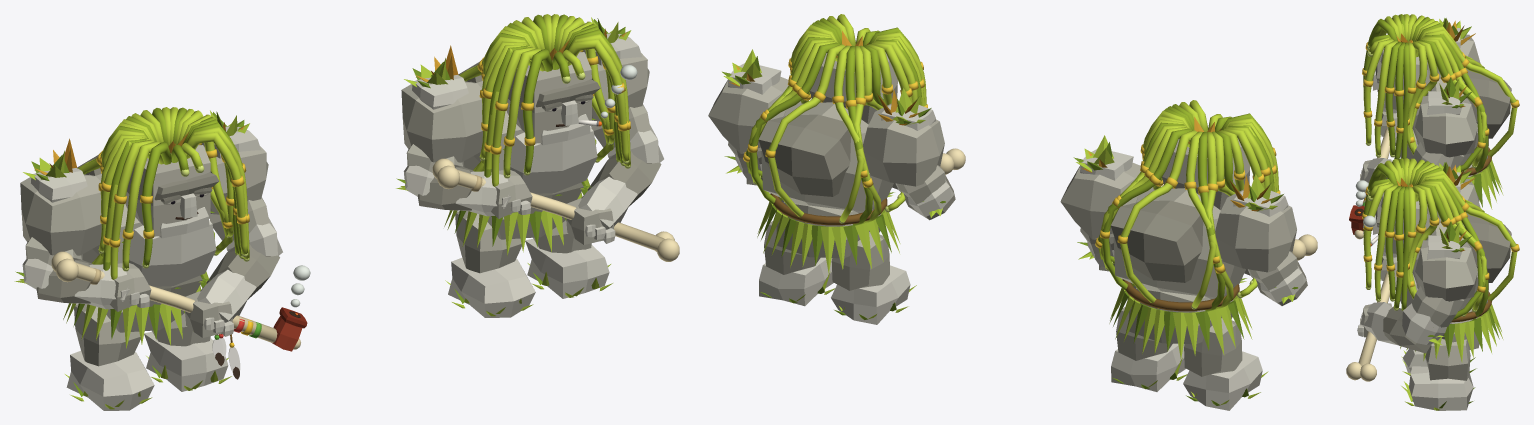
Rendered from koulosse.glb.
3 renders of one model, left to right at view 1: azimuth 30°, elevation 25°; view 2: azimuth 150°, elevation 25°; view 3: azimuth 270°, elevation 25°, orthographic. The views are drawn at different scales.
Visible parts, largest first — view 1: epaule.004, epaule, poitrail.001, poitrail, pied, pied.002, pied.003, pied.001, tete, tete.001, cuisse.002, cuisse (+45 smaller); view 2: dos.001, dos, epaule.004, epaule, epaule.006, epaule.002, torse, torse.001, pied, pied.002, pied.001, pied.003 (+34 smaller); view 3: epaule.002, epaule.006, pied.003, dos.001, dos, cuisse.003, bras.006, bras.007, dread.044, dread.016, avant_bras.006, dread.040 (+57 smaller).
Part boxes in pixels (left/top/right/bottom): epaule.004: left=401, top=81, right=482, bottom=162; epaule: left=20, top=174, right=101, bottom=255; poitrail.001: left=510, top=127, right=597, bottom=193; poitrail: left=129, top=220, right=216, bottom=286; pied: left=66, top=350, right=154, bottom=410; pied.002: left=448, top=258, right=535, bottom=317; pied.003: left=525, top=239, right=609, bottom=298; pied.001: left=144, top=331, right=228, bottom=391; tete: left=125, top=144, right=210, bottom=236; tete.001: left=506, top=51, right=591, bottom=143; cuisse.002: left=455, top=211, right=521, bottom=273; cuisse: left=74, top=304, right=140, bottom=366; dos.001: left=758, top=114, right=850, bottom=196; dos: left=1111, top=200, right=1203, bottom=282; epaule.004: left=863, top=103, right=944, bottom=186; epaule: left=1215, top=189, right=1296, bottom=272; epaule.006: left=708, top=76, right=801, bottom=153; epaule.002: left=1060, top=163, right=1153, bottom=239; torse: left=1113, top=188, right=1245, bottom=299; torse.001: left=761, top=102, right=893, bottom=213; pied: left=1183, top=351, right=1262, bottom=410; pied.002: left=831, top=265, right=910, bottom=324; pied.001: left=1111, top=343, right=1185, bottom=391; pied.003: left=759, top=257, right=833, bottom=306; epaule.002: left=1415, top=96, right=1477, bottom=157; epaule.006: left=1415, top=240, right=1477, bottom=301; pied.003: left=1409, top=366, right=1473, bottom=410; dos.001: left=1464, top=213, right=1511, bottom=282; dos: left=1464, top=69, right=1511, bottom=138; cuisse.003: left=1425, top=339, right=1470, bottom=380; bras.006: left=1412, top=286, right=1463, bottom=327; bras.007: left=1402, top=303, right=1446, bottom=344; dread.044: left=1422, top=174, right=1517, bottom=301; dread.016: left=1422, top=30, right=1517, bottom=156; avant_bras.006: left=1383, top=306, right=1431, bottom=353; dread.040: left=1417, top=184, right=1484, bottom=319.
Bounding box in the file's own units: 7.47 × 3.11 × 2.29.
